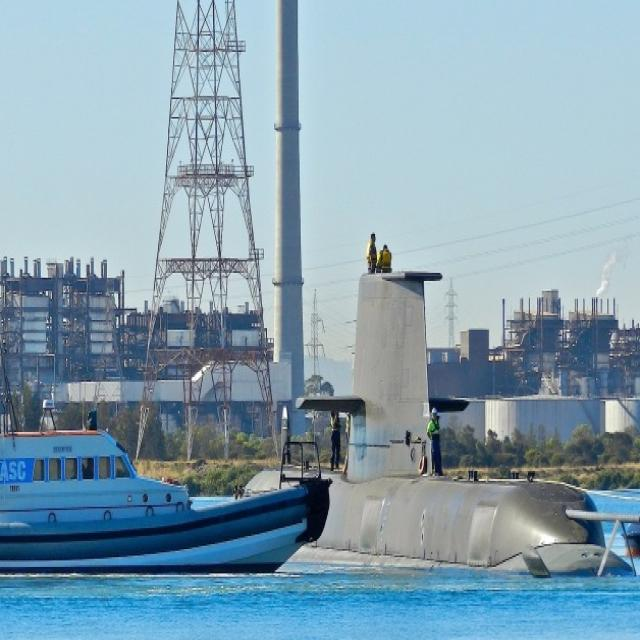submarine: (239, 267, 640, 576)
